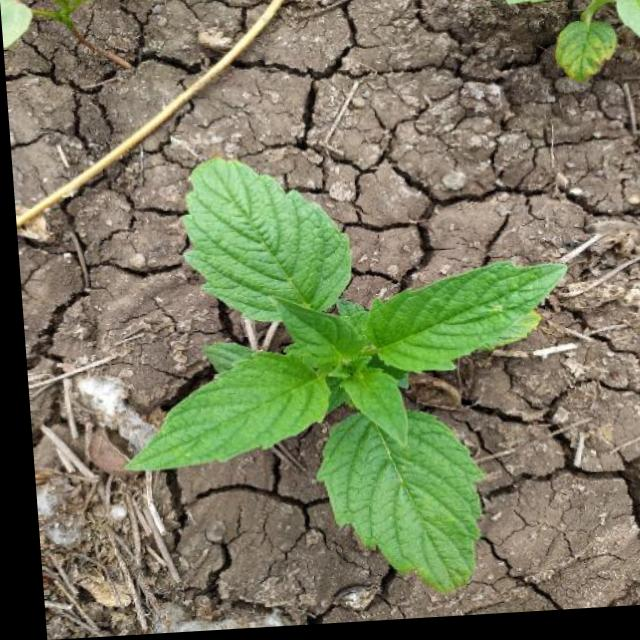crop: (100, 141, 586, 636)
